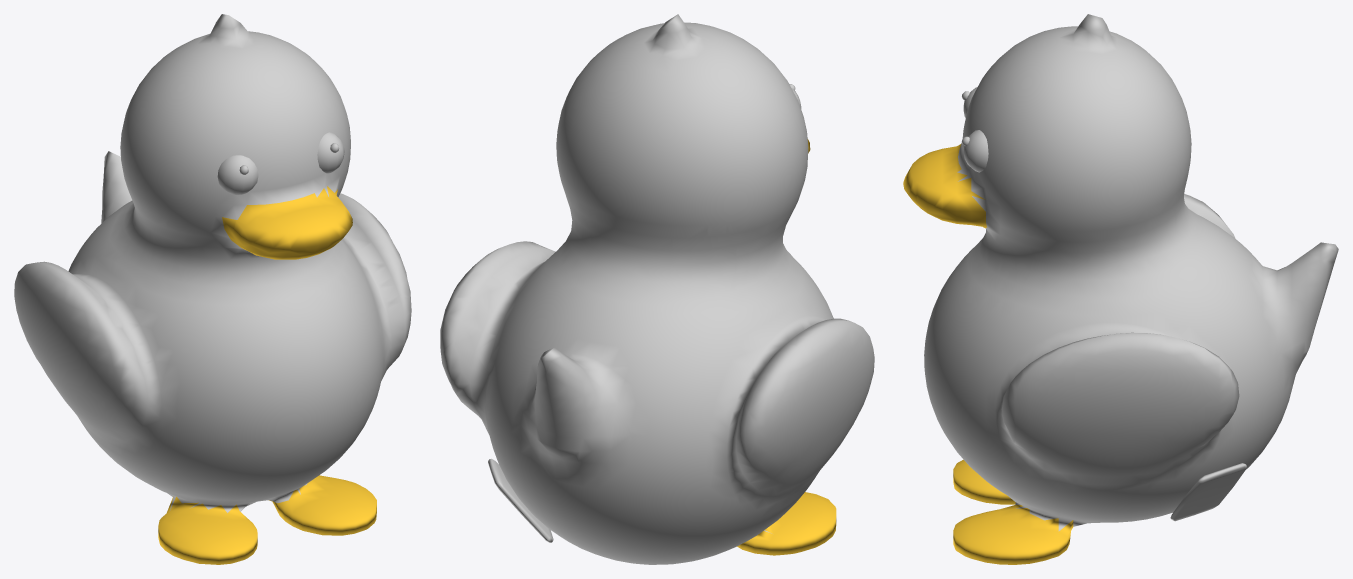
Rendered from plush_duck.fbx.
3 renders of one model, left to right at view 1: azimuth 30°, elevation 25°; view 2: azimuth 150°, elevation 25°; view 3: azimuth 270°, elevation 25°, orthographic. The views are drawn at different scales.
Parts seen in each view (by area): view 1: plush_duck; view 2: plush_duck; view 3: plush_duck.
Part boxes in pixels (x1,y1,x2,y2): plush_duck: (14,14,411,564); plush_duck: (440,14,874,564); plush_duck: (903,14,1338,564).
Size of the model in its own units: 0.7138 by 1.03 by 0.798.
